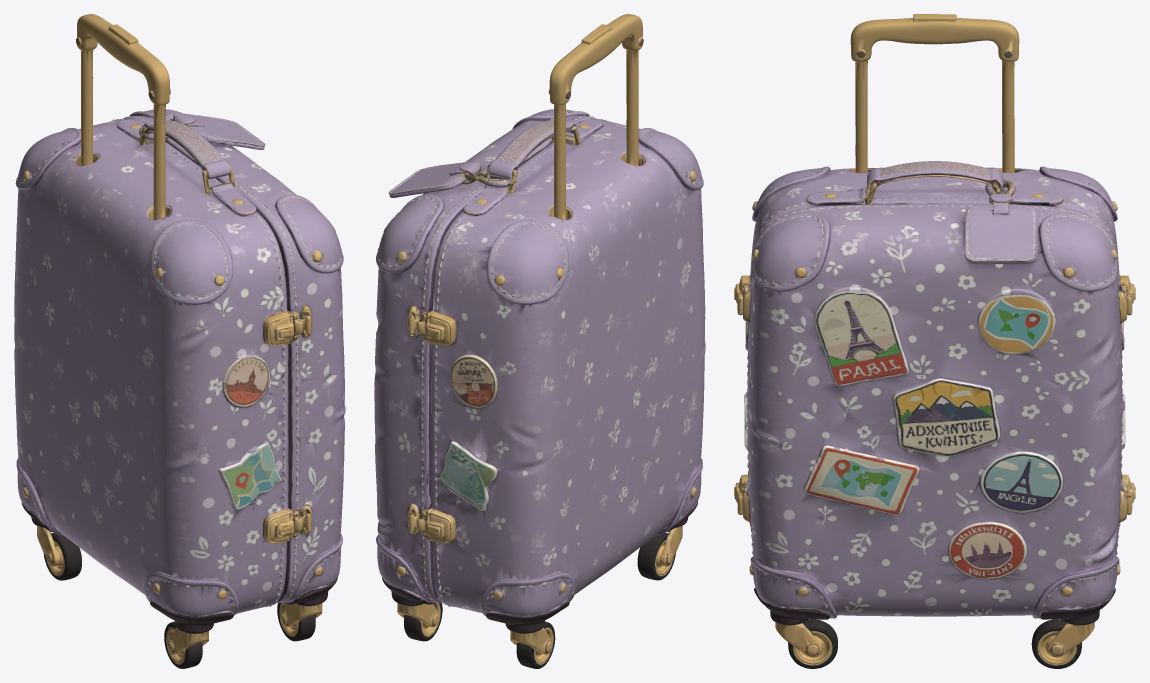
Rendered from suitcase.glb.
3 views of the same model, side by side, from view 1: azimuth 30°, elevation 25°; view 2: azimuth 150°, elevation 25°; view 3: azimuth 270°, elevation 25° (orthographic).
Visible parts, largest first — view 1: tripo_node_073d8689-8089-43e6-88f9-56a09fa26bcc; view 2: tripo_node_073d8689-8089-43e6-88f9-56a09fa26bcc; view 3: tripo_node_073d8689-8089-43e6-88f9-56a09fa26bcc.
Boxes of the visible parts, <box> form: tripo_node_073d8689-8089-43e6-88f9-56a09fa26bcc: <box>14,14,345,668</box>; tripo_node_073d8689-8089-43e6-88f9-56a09fa26bcc: <box>374,14,705,668</box>; tripo_node_073d8689-8089-43e6-88f9-56a09fa26bcc: <box>734,14,1135,668</box>.
Bounding box in the file's own units: 0.3388 × 0.9794 × 0.5996.
Materials: 1 (1 with a texture image).
